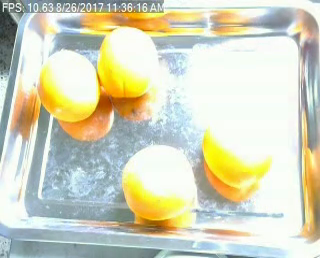Orange: (120, 144, 197, 219), (201, 113, 274, 188), (38, 49, 97, 121), (98, 27, 157, 98)
